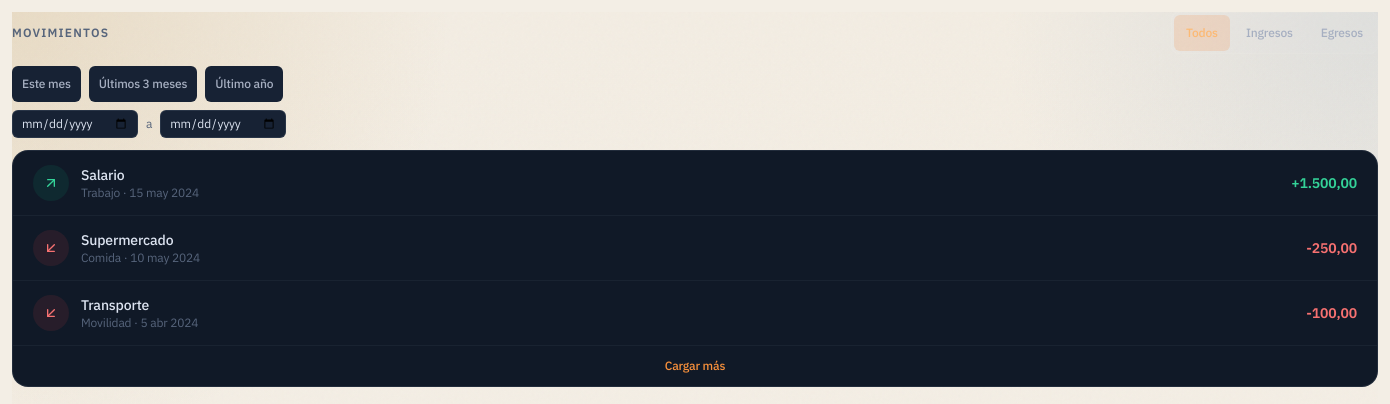
Test case: Date Filter Integration › "Limpiar filtro" resets the filter
The image size is (1390, 404).
Apply a preset filter first
Click the button "Este mes" at (46, 84), box [12,66,81,102]
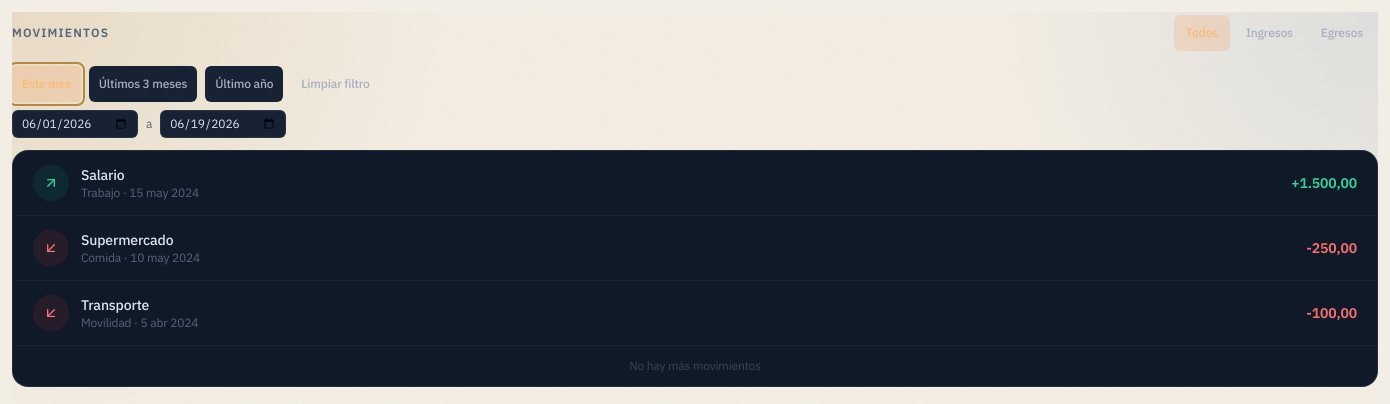
Check: the button "Limpiar filtro" is shown
Clear the filter
Click the button "Limpiar filtro" at (335, 84), box [291,72,380,96]
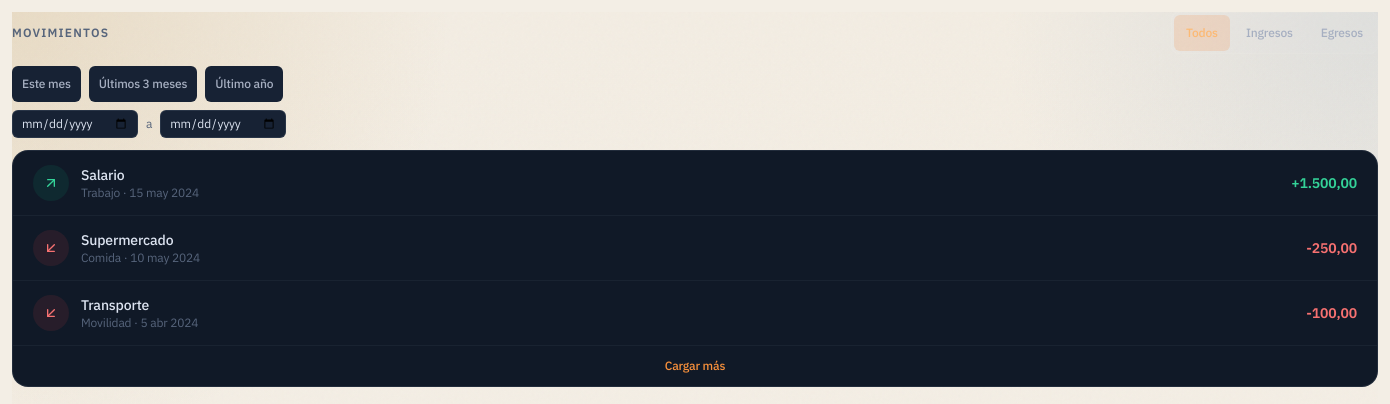
Check: the button "Limpiar filtro" is gone
